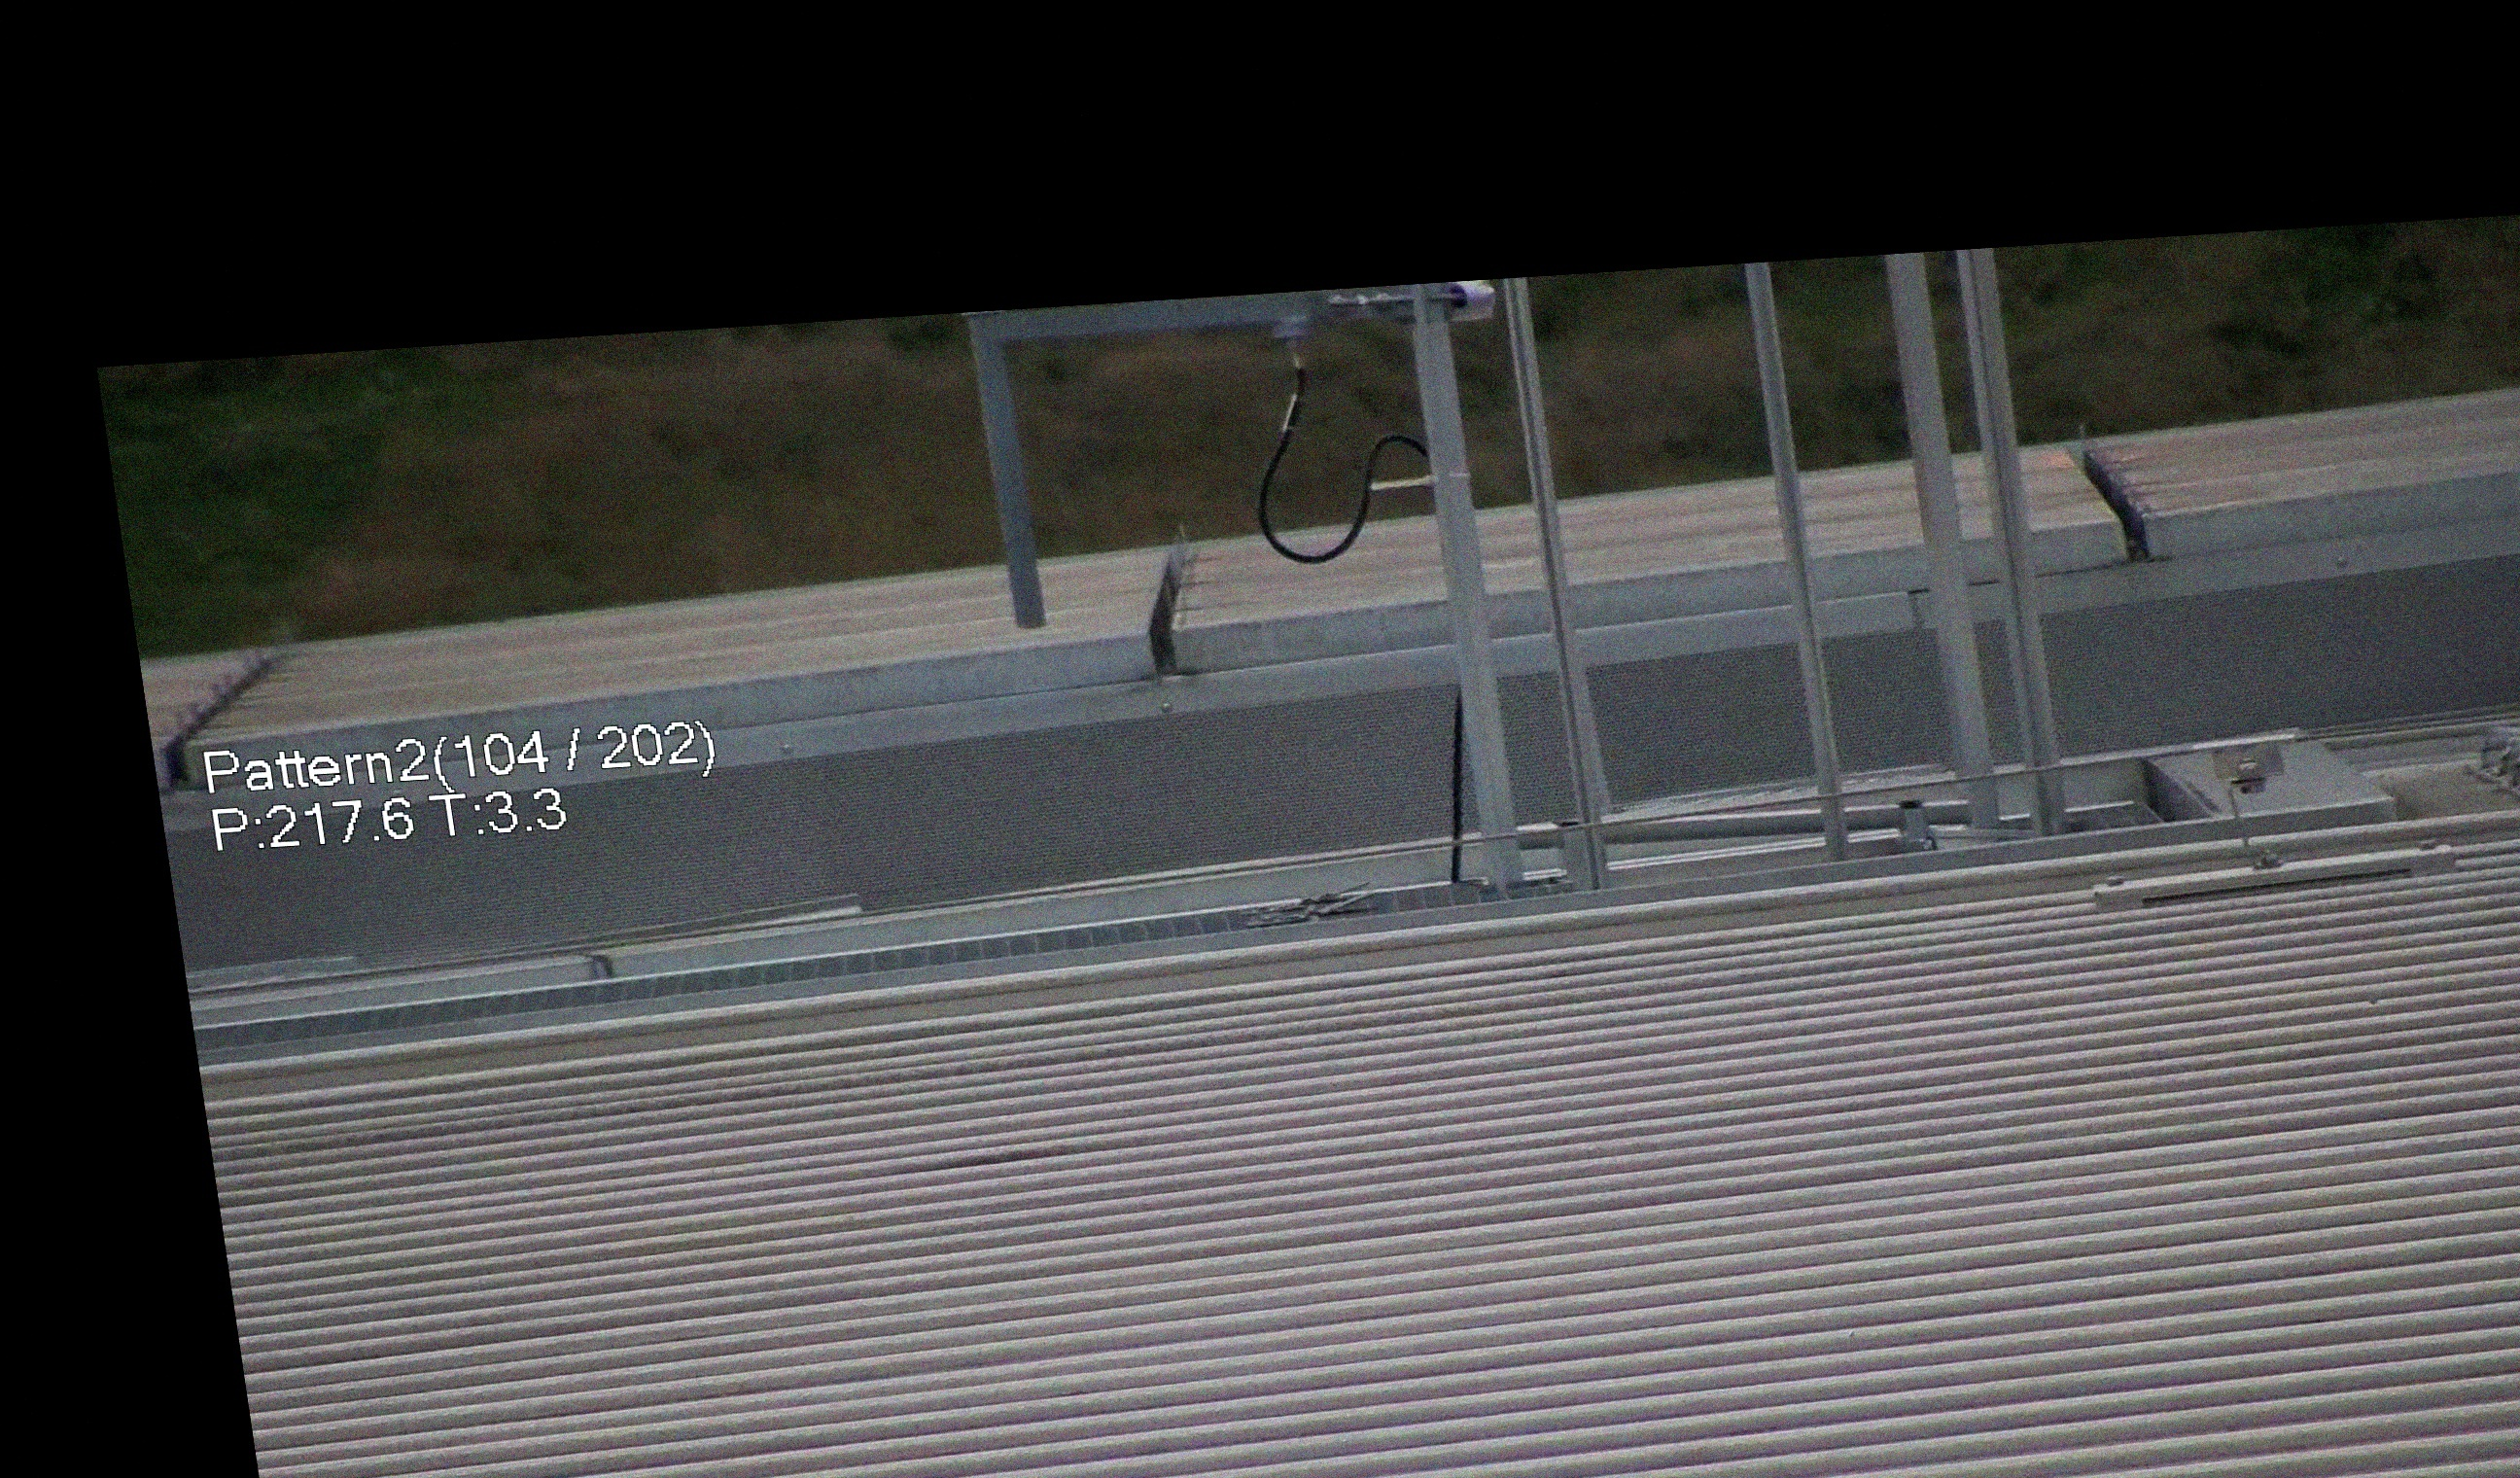Other: (2072, 421, 2184, 567)
